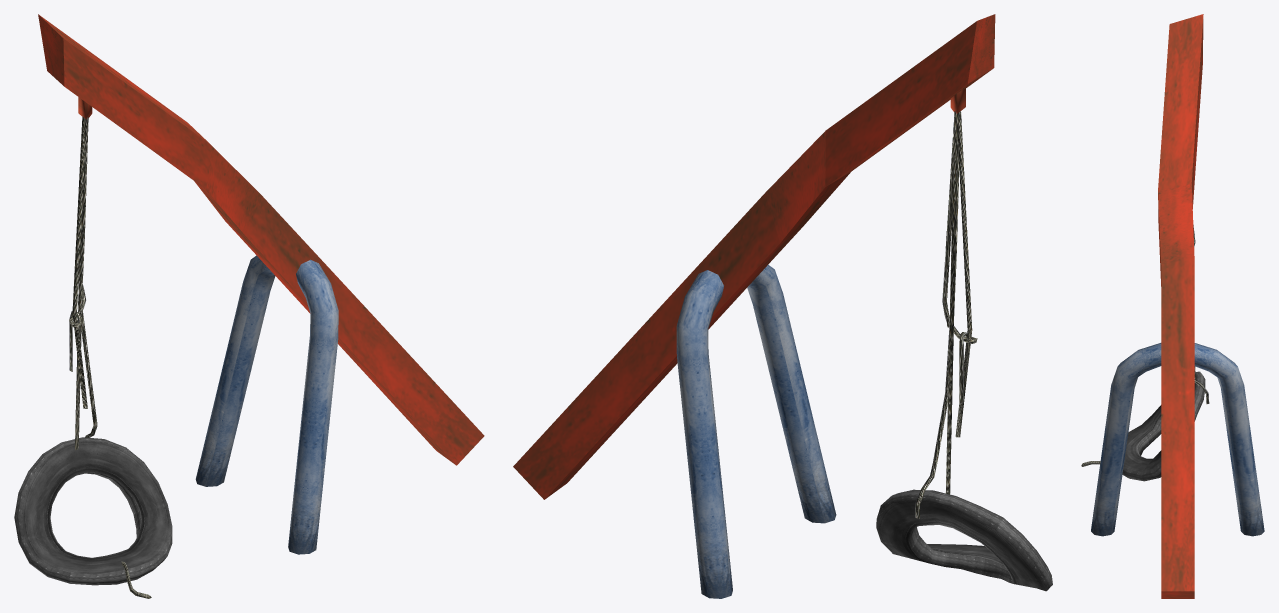
Rendered from Model_TireSwing_01.fbx.
3 views of the same model, side by side, from view 1: azimuth 30°, elevation 25°; view 2: azimuth 150°, elevation 25°; view 3: azimuth 270°, elevation 25° (orthographic). The views are drawn at different scales.
Visible parts, largest first — view 1: TireSwing_1; view 2: TireSwing_1; view 3: TireSwing_1.
Part boxes in pixels (bbox=[...]): TireSwing_1: bbox=[14, 14, 484, 598]; TireSwing_1: bbox=[513, 14, 1052, 598]; TireSwing_1: bbox=[1081, 14, 1264, 598].
Bounding box in the file's own units: 288 × 320 × 122.
